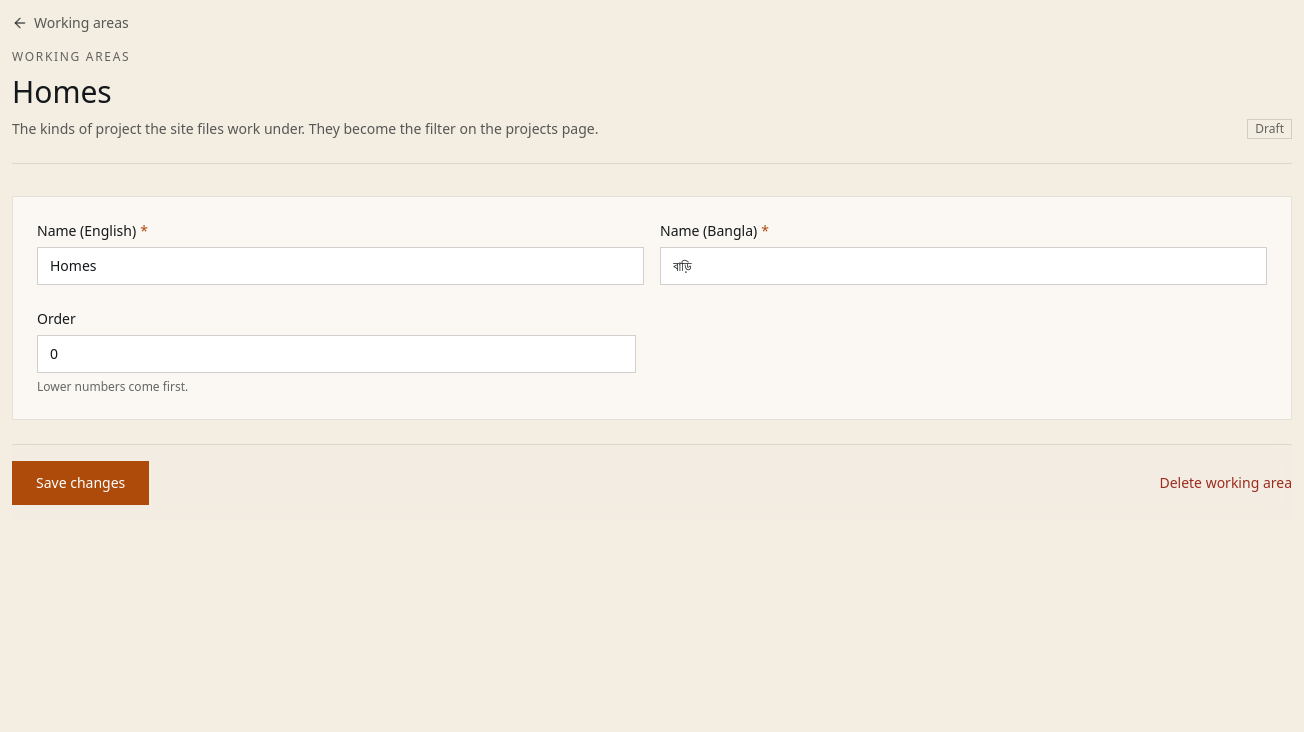
Test case: ResourceForm › updates the Published badge after a save, without a reload
Expected: the text "Draft" is shown, [1247,118,1292,138]
Click the button "Save changes": click(81, 482) [12,460,149,504]
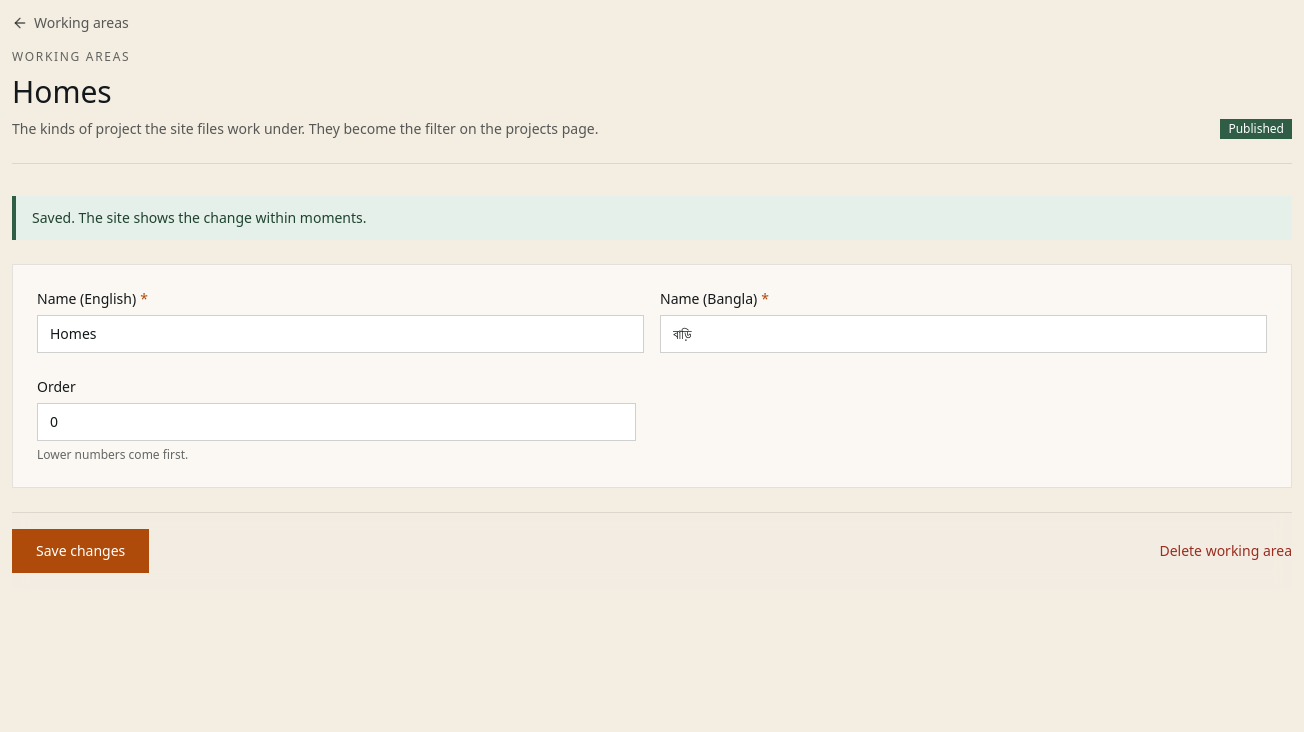
Result: the text "Published" is shown at [1220,118,1292,138]
